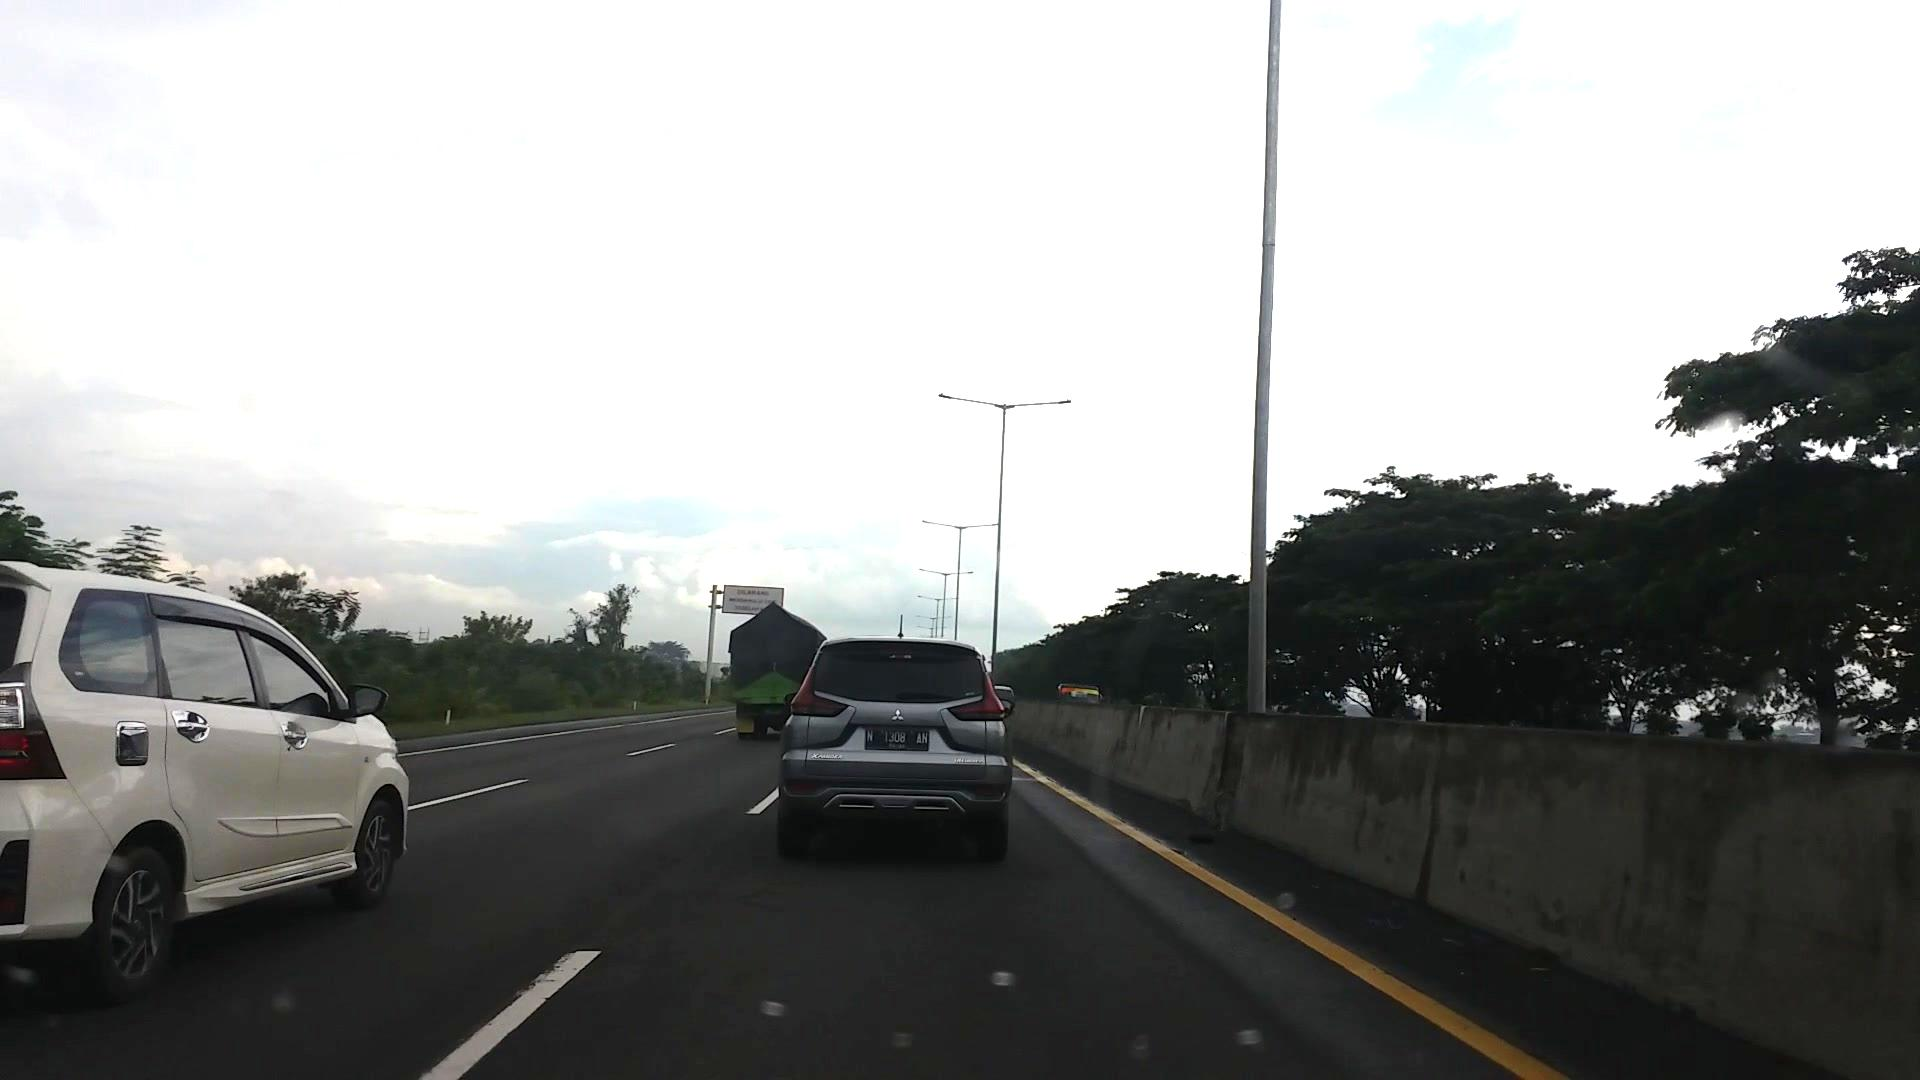plate_positive: (865, 727, 928, 752)
